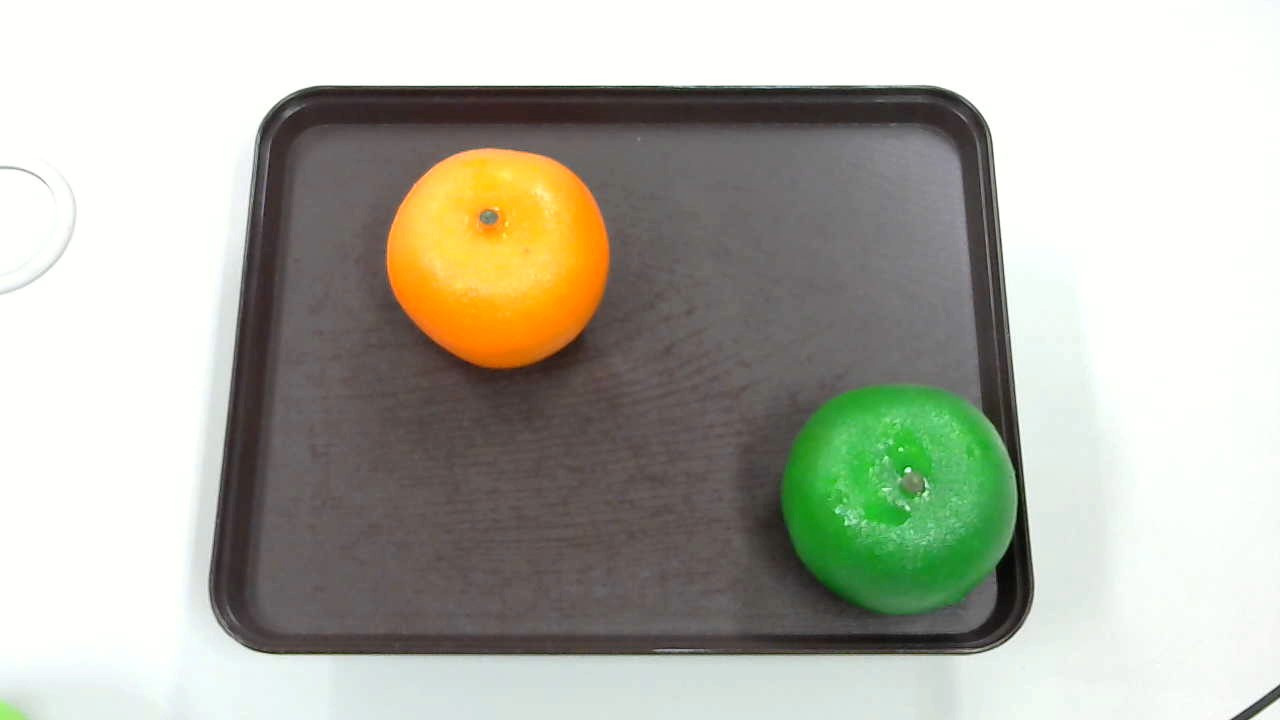green orange: (782, 386, 1028, 620)
orange: (372, 141, 617, 386)
